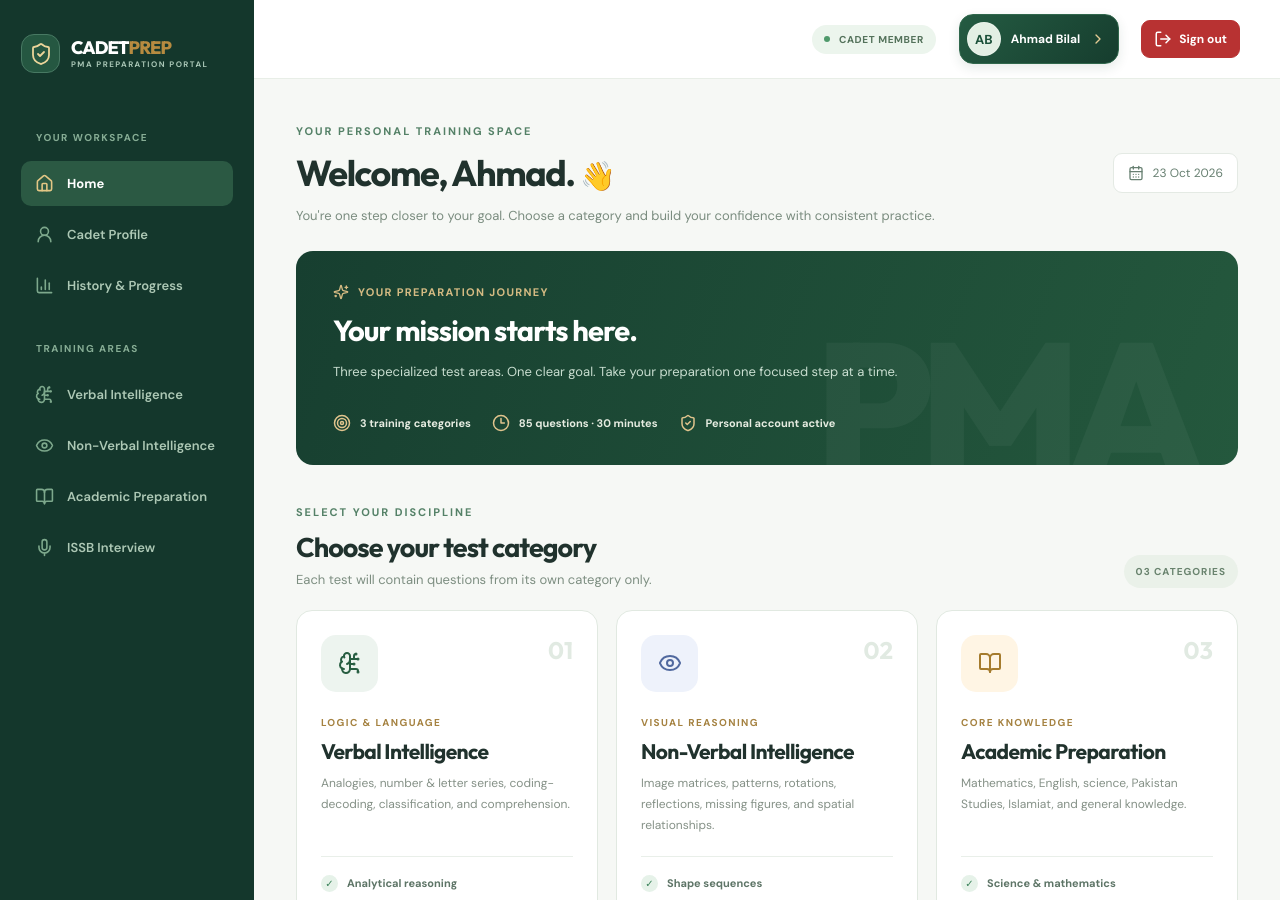
Scenario: profile is reachable from the dashboard sidebar and avatar
Expected: the link "Change password" is not shown
Click the link "Cadet Profile": (92, 234) x1=35 y1=225 x2=148 y2=244
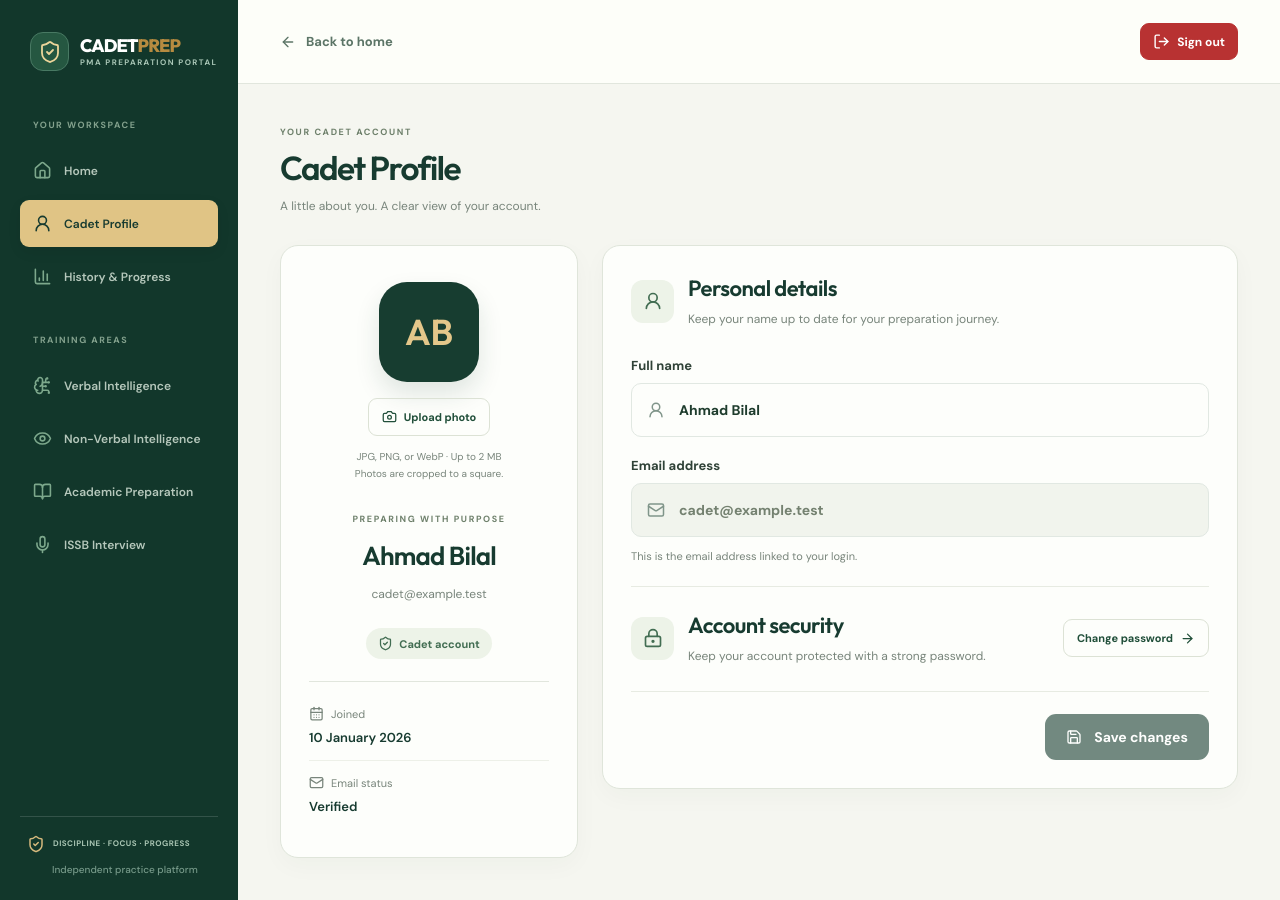
Result: the heading "Cadet Profile" is shown at x1=280 y1=147 x2=460 y2=189
Result: the field labelled "Full name" holds "Ahmad Bilal" at x1=677 y1=400 x2=1193 y2=420
Result: the text "Verified" is shown at x1=309 y1=798 x2=357 y2=815
